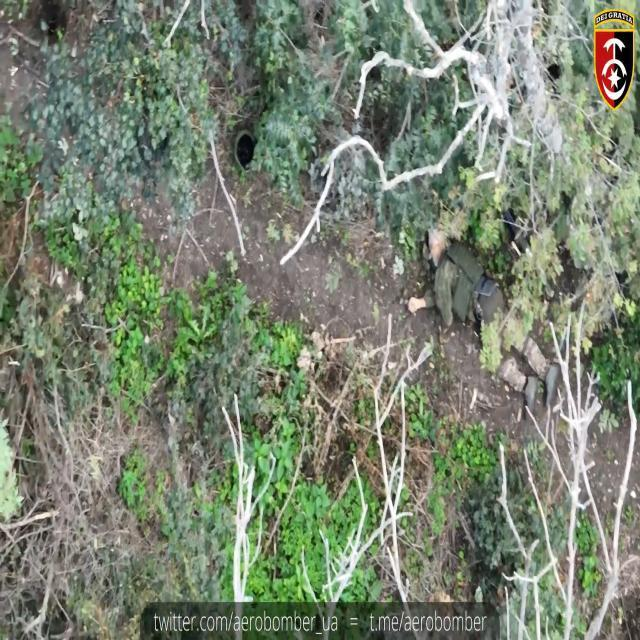MIL_Pax: (408, 229, 562, 404)
